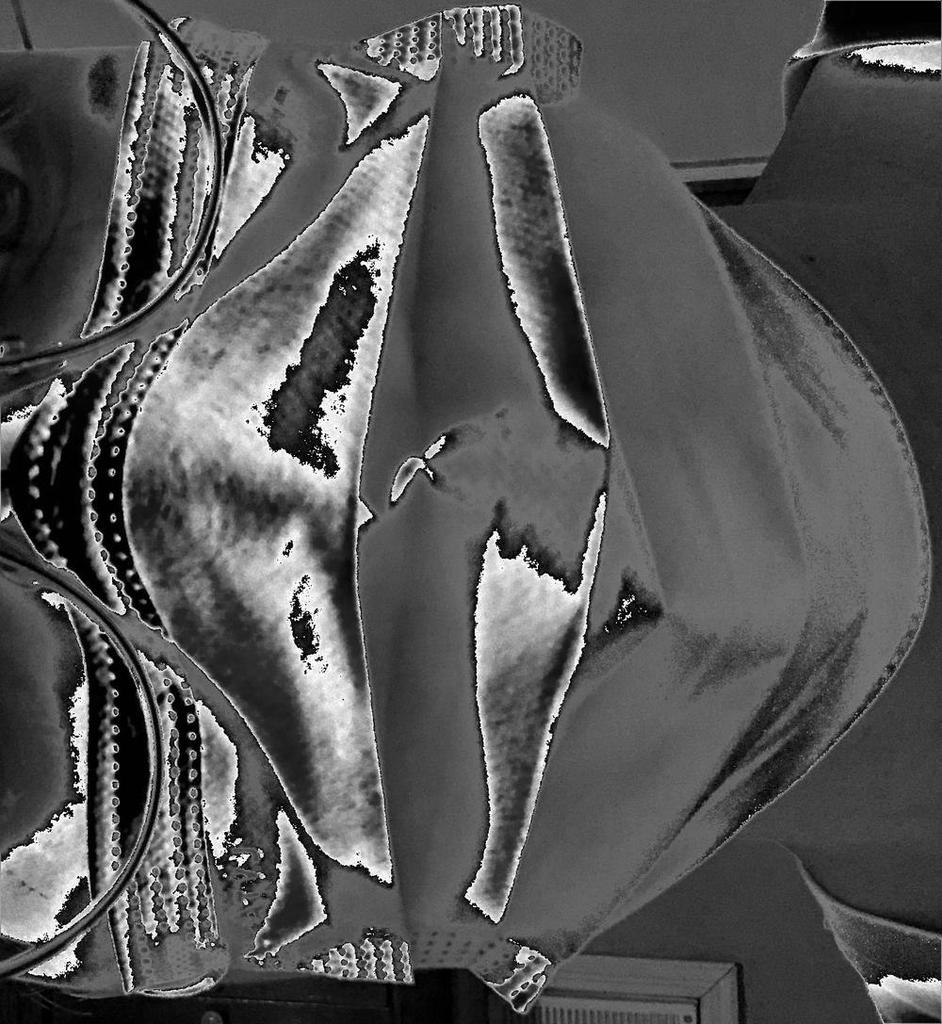Low GSM: (137, 1, 933, 1018)
